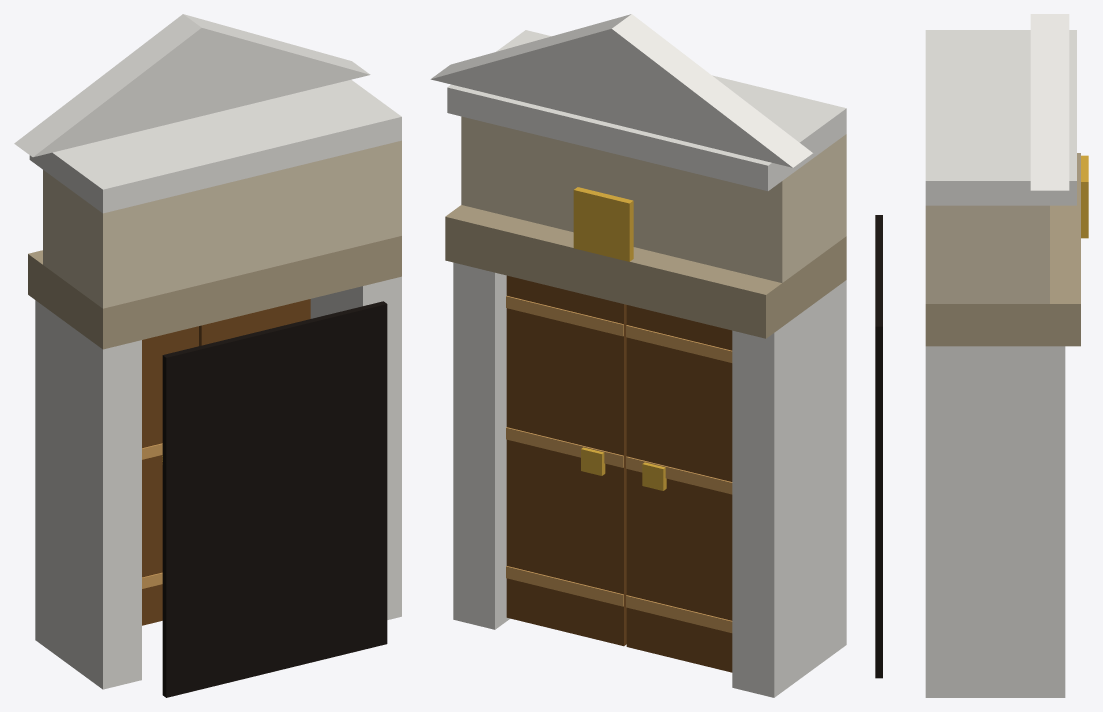
Rendered from SM_GreatGate.fbx.
3 views of the same model, side by side, from view 1: azimuth 30°, elevation 25°; view 2: azimuth 150°, elevation 25°; view 3: azimuth 270°, elevation 25° (orthographic). The views are drawn at different scales.
Visible parts, largest first — view 1: SM_GreatGate_Frame, DoorR, DoorL; view 2: SM_GreatGate_Frame, DoorL, DoorR; view 3: SM_GreatGate_Frame.
Boxes of the visible parts, box(x1,y1,x2,y2) form: SM_GreatGate_Frame: box(14, 14, 401, 697); DoorR: box(142, 326, 198, 625); DoorL: box(199, 299, 310, 345); SM_GreatGate_Frame: box(430, 14, 846, 697); DoorL: box(506, 275, 626, 646); DoorR: box(626, 305, 732, 672); SM_GreatGate_Frame: box(875, 14, 1088, 697).
Bounding box in the file's own units: 5.2 × 2.75 × 8.65.
